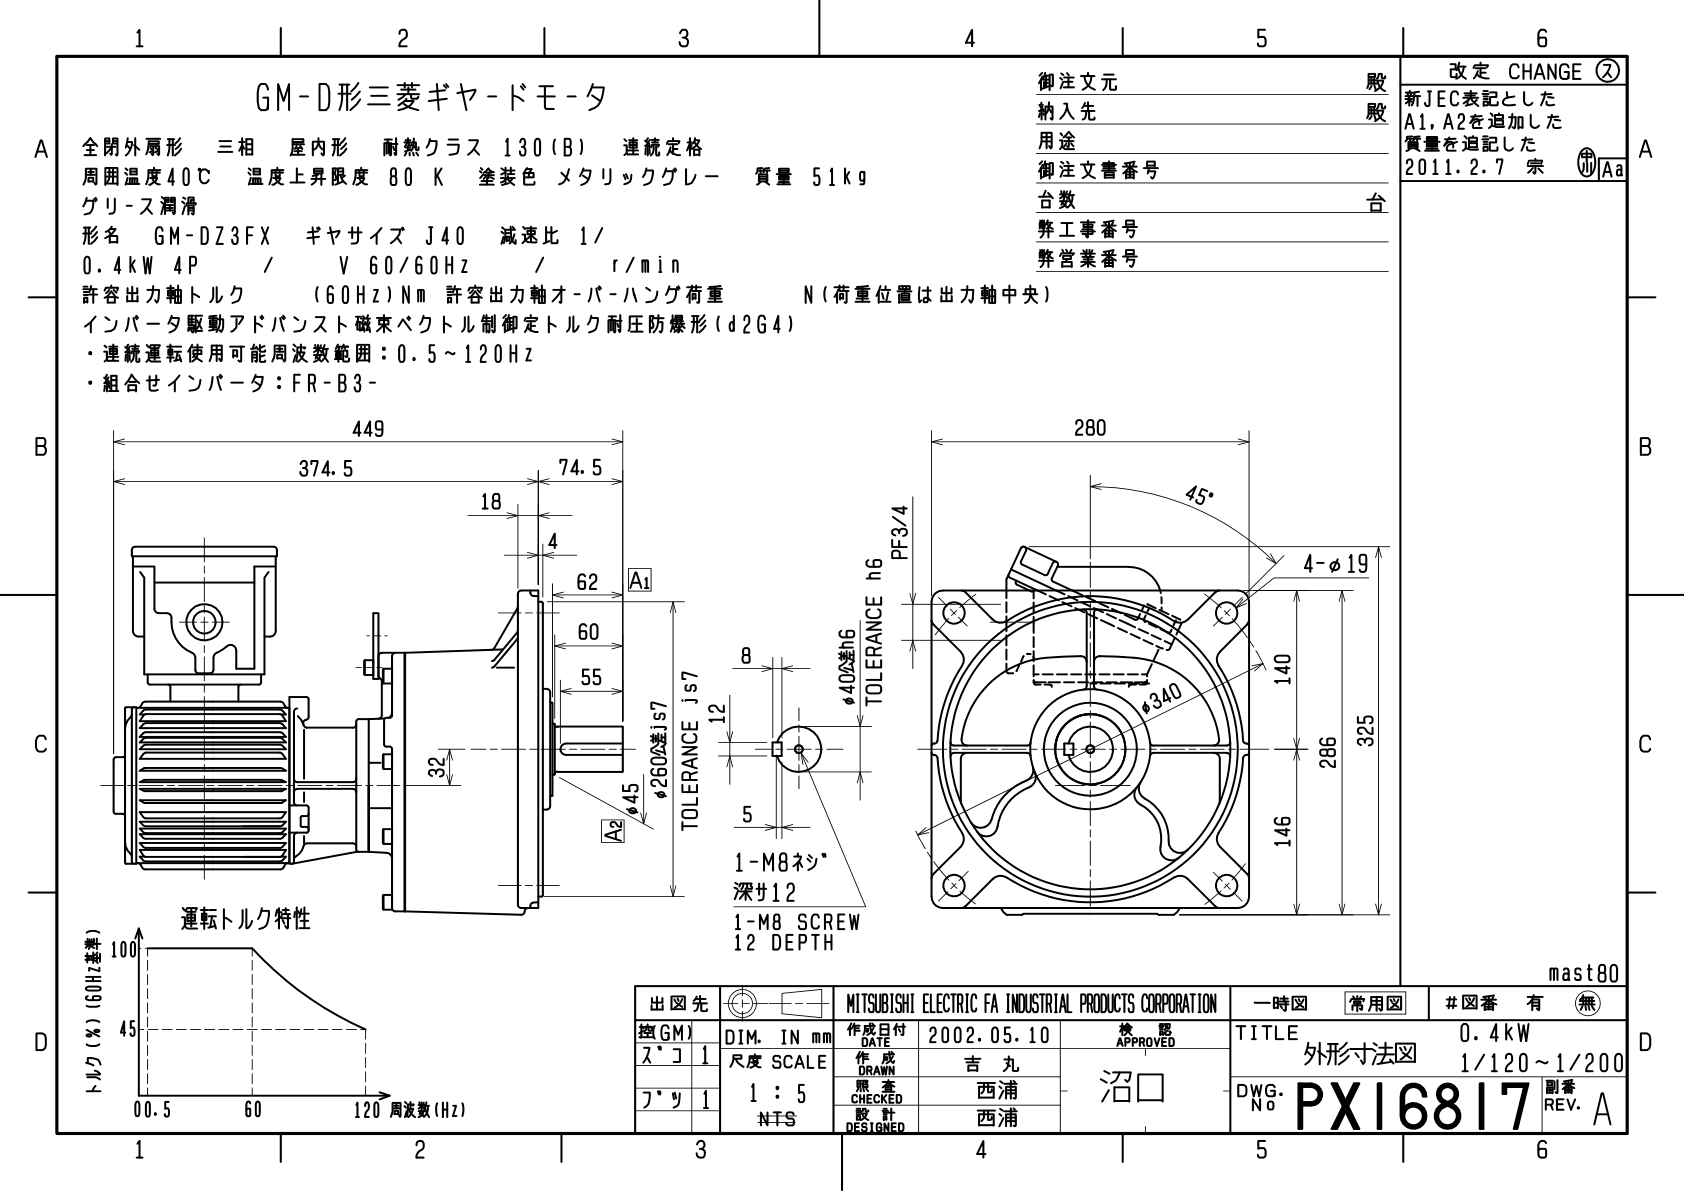GM_D_制御屋内_三相_フランジ: (71, 406, 1395, 969)
